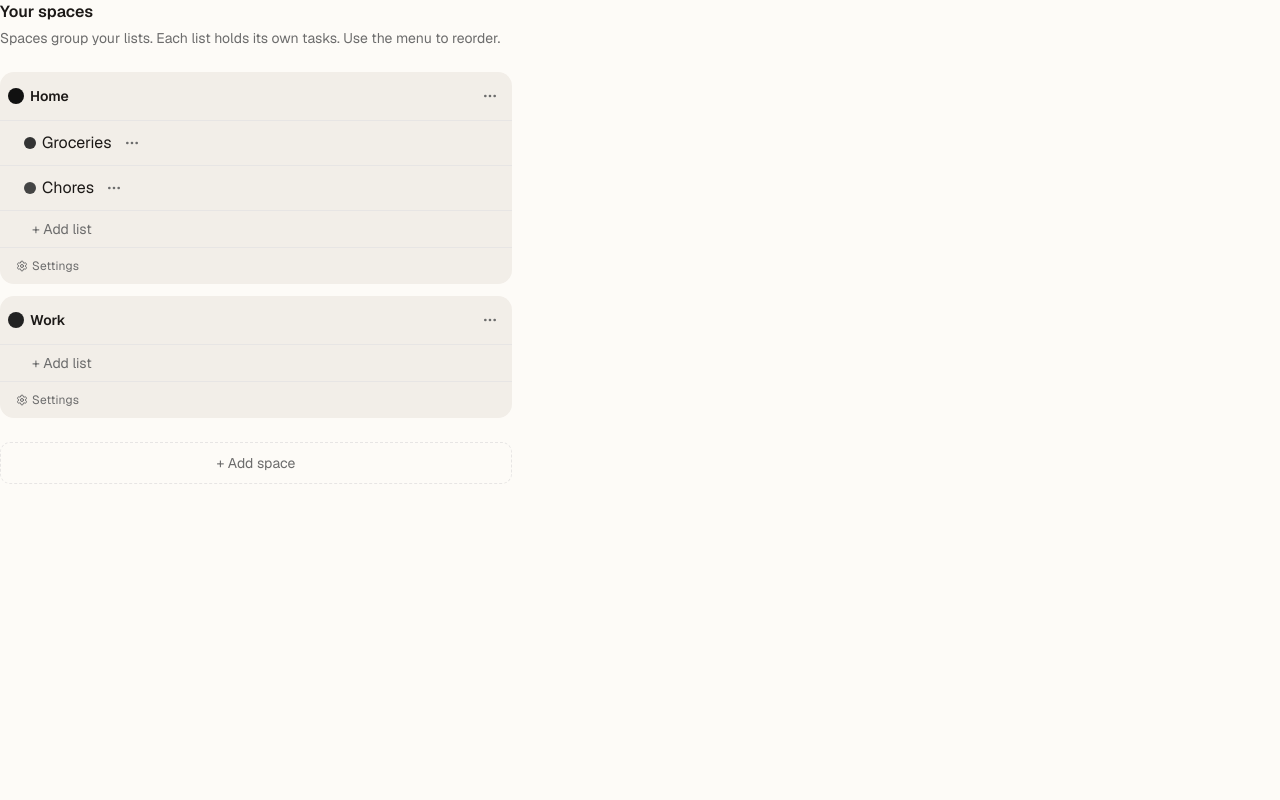
SpaceListManager delete and leave › deletes a list, removes only that list from the cache and clears its page cache
The width and height of the screenshot is (1280, 800).
Press the mouse on the button named "More actions for Groceries": [132, 143] box x1=118 y1=129 x2=146 y2=157
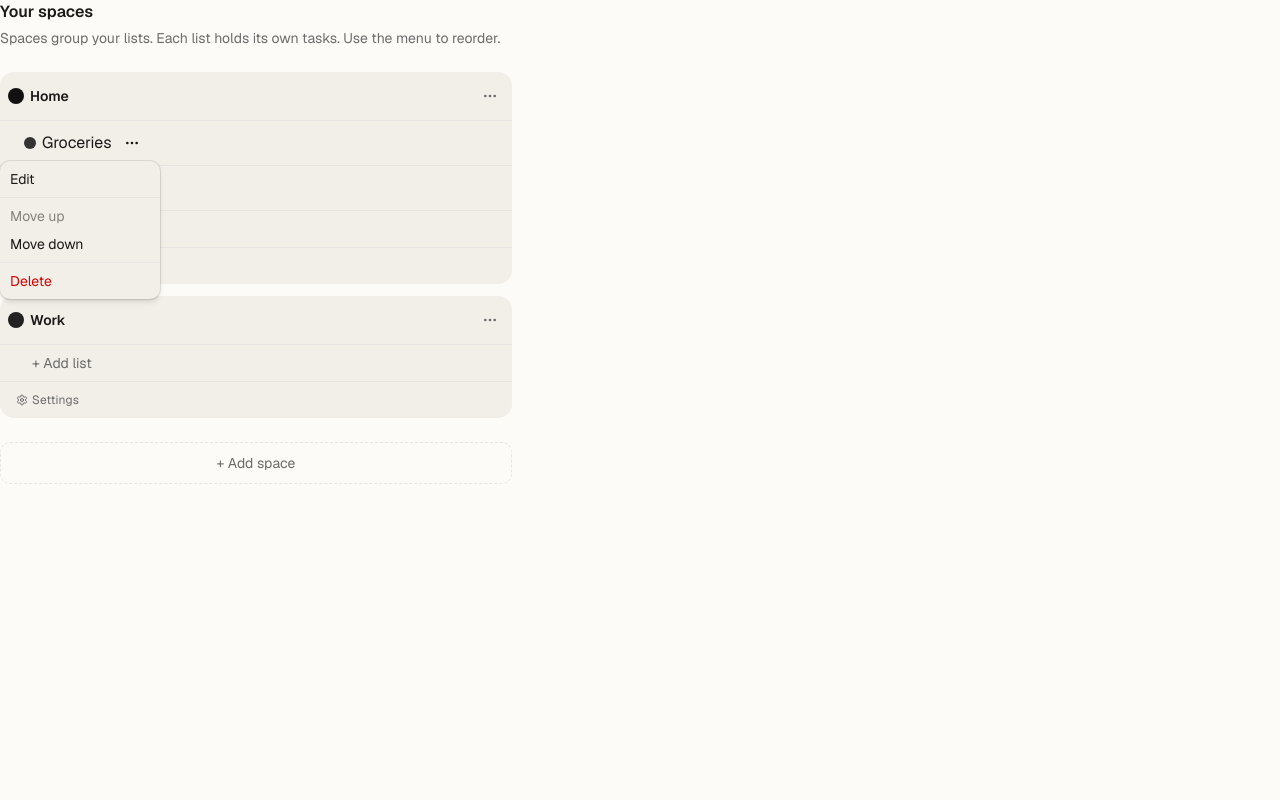
Click the menu item "Delete": [31, 281] box x1=10 y1=272 x2=52 y2=290
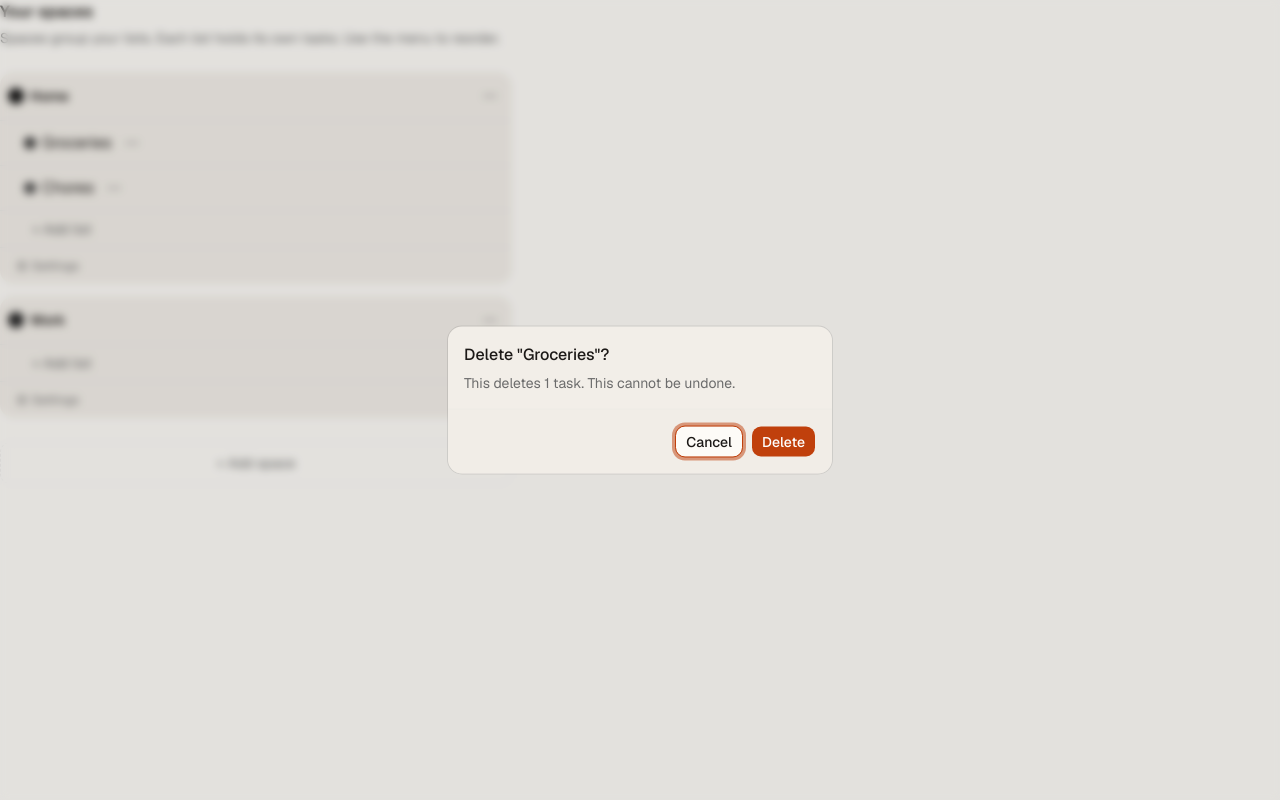
Result: the text "This deletes 1 task. This cannot be undone." is shown at x1=464 y1=372 x2=735 y2=392
Click the button "Delete": [783, 442] box x1=751 y1=426 x2=816 y2=458
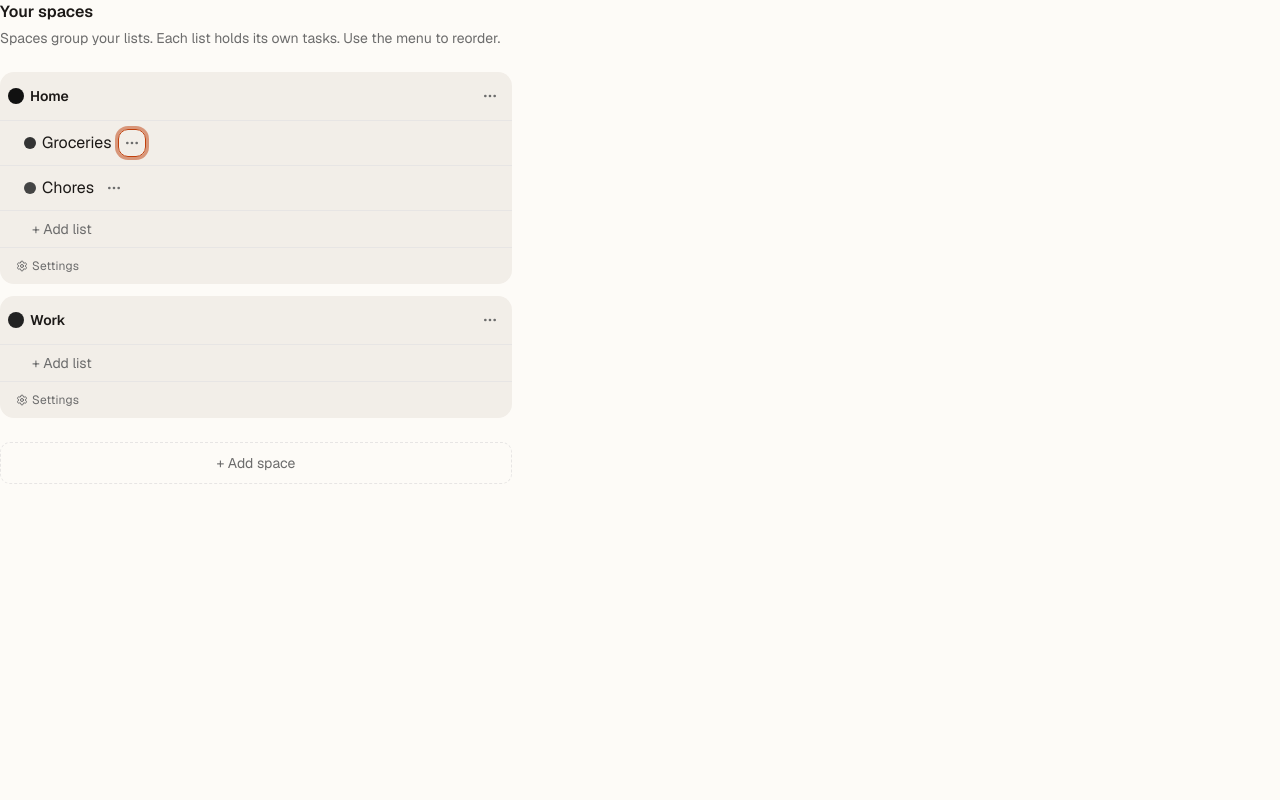
Result: the heading "Delete \"Groceries\"?" is gone
